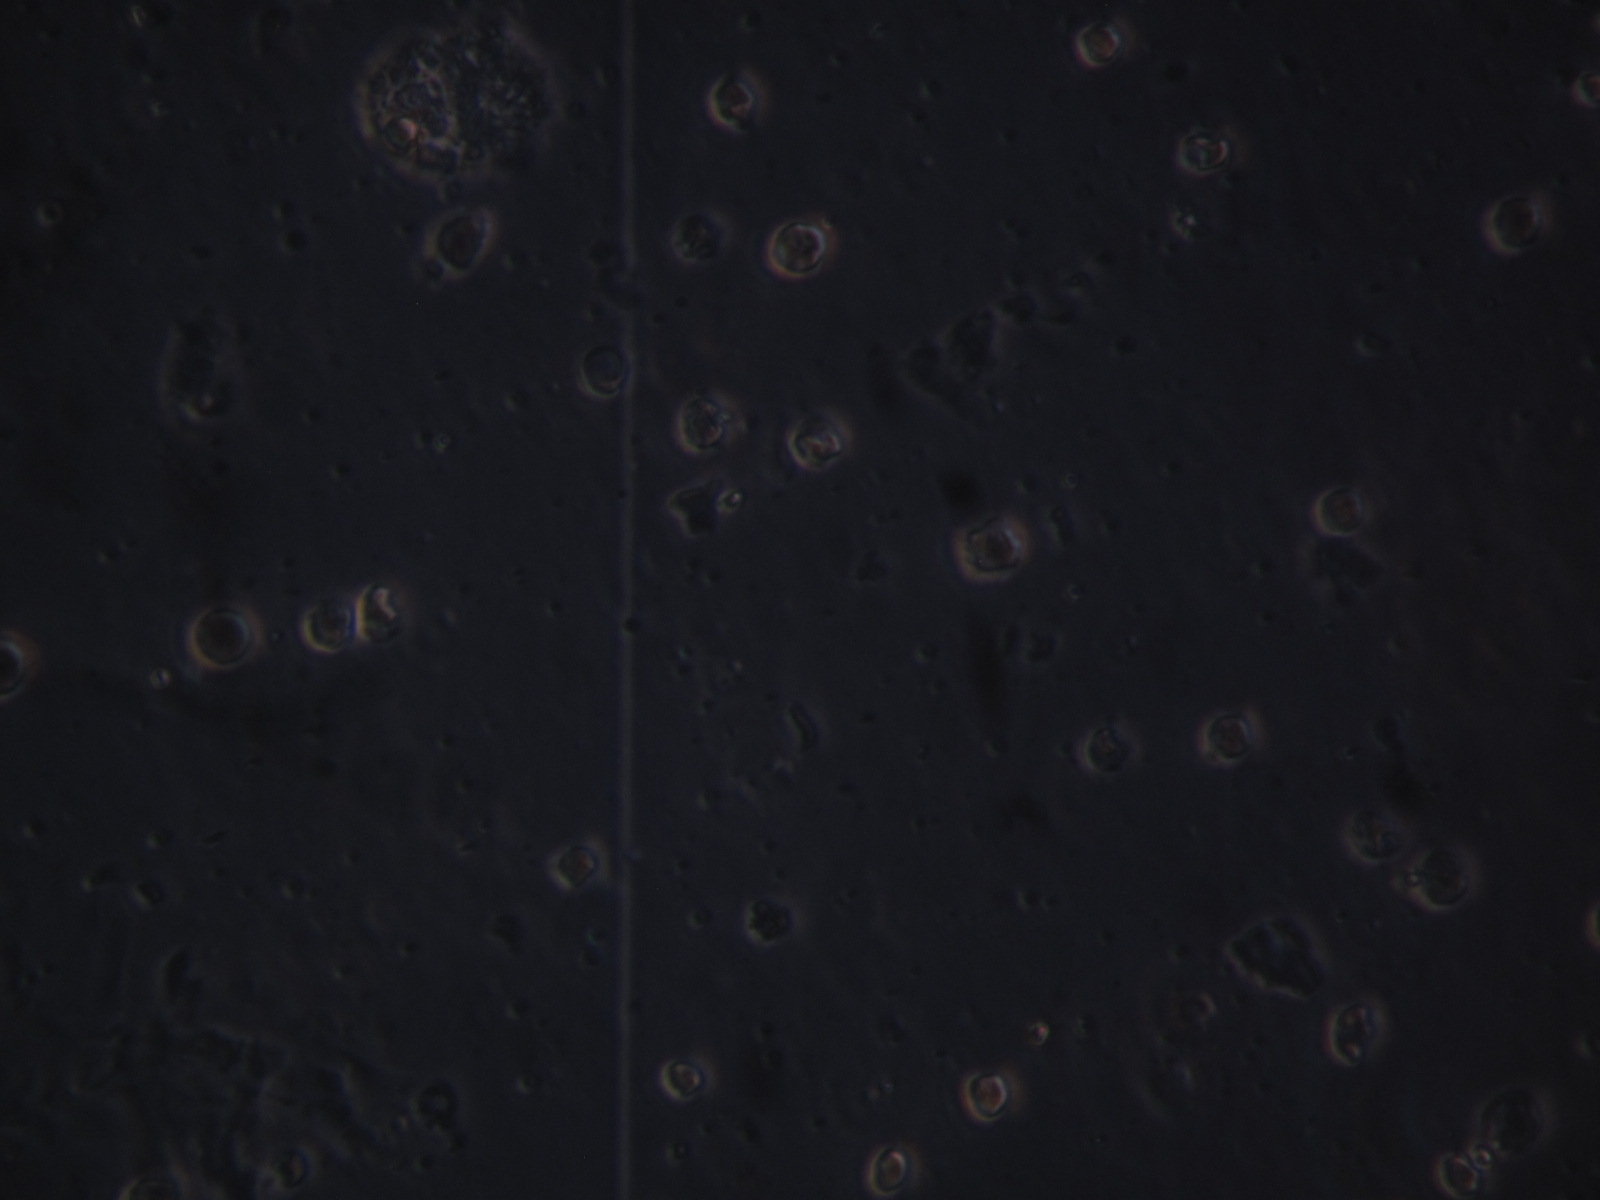hemo: (952, 513, 1029, 584), (426, 203, 495, 280), (188, 603, 261, 672), (1327, 995, 1390, 1068), (769, 217, 837, 282), (787, 408, 854, 471), (1346, 802, 1412, 863), (1414, 845, 1474, 911), (547, 837, 611, 895), (745, 890, 806, 949), (1202, 708, 1264, 768), (960, 1068, 1026, 1123), (299, 595, 357, 655), (677, 396, 737, 454), (1489, 193, 1545, 255), (1078, 721, 1140, 776), (580, 342, 632, 401), (1311, 482, 1367, 537), (357, 582, 404, 645), (659, 1054, 718, 1102), (1178, 127, 1233, 175), (1436, 1152, 1490, 1200), (711, 72, 757, 127), (866, 1145, 913, 1197), (1078, 20, 1123, 68)
